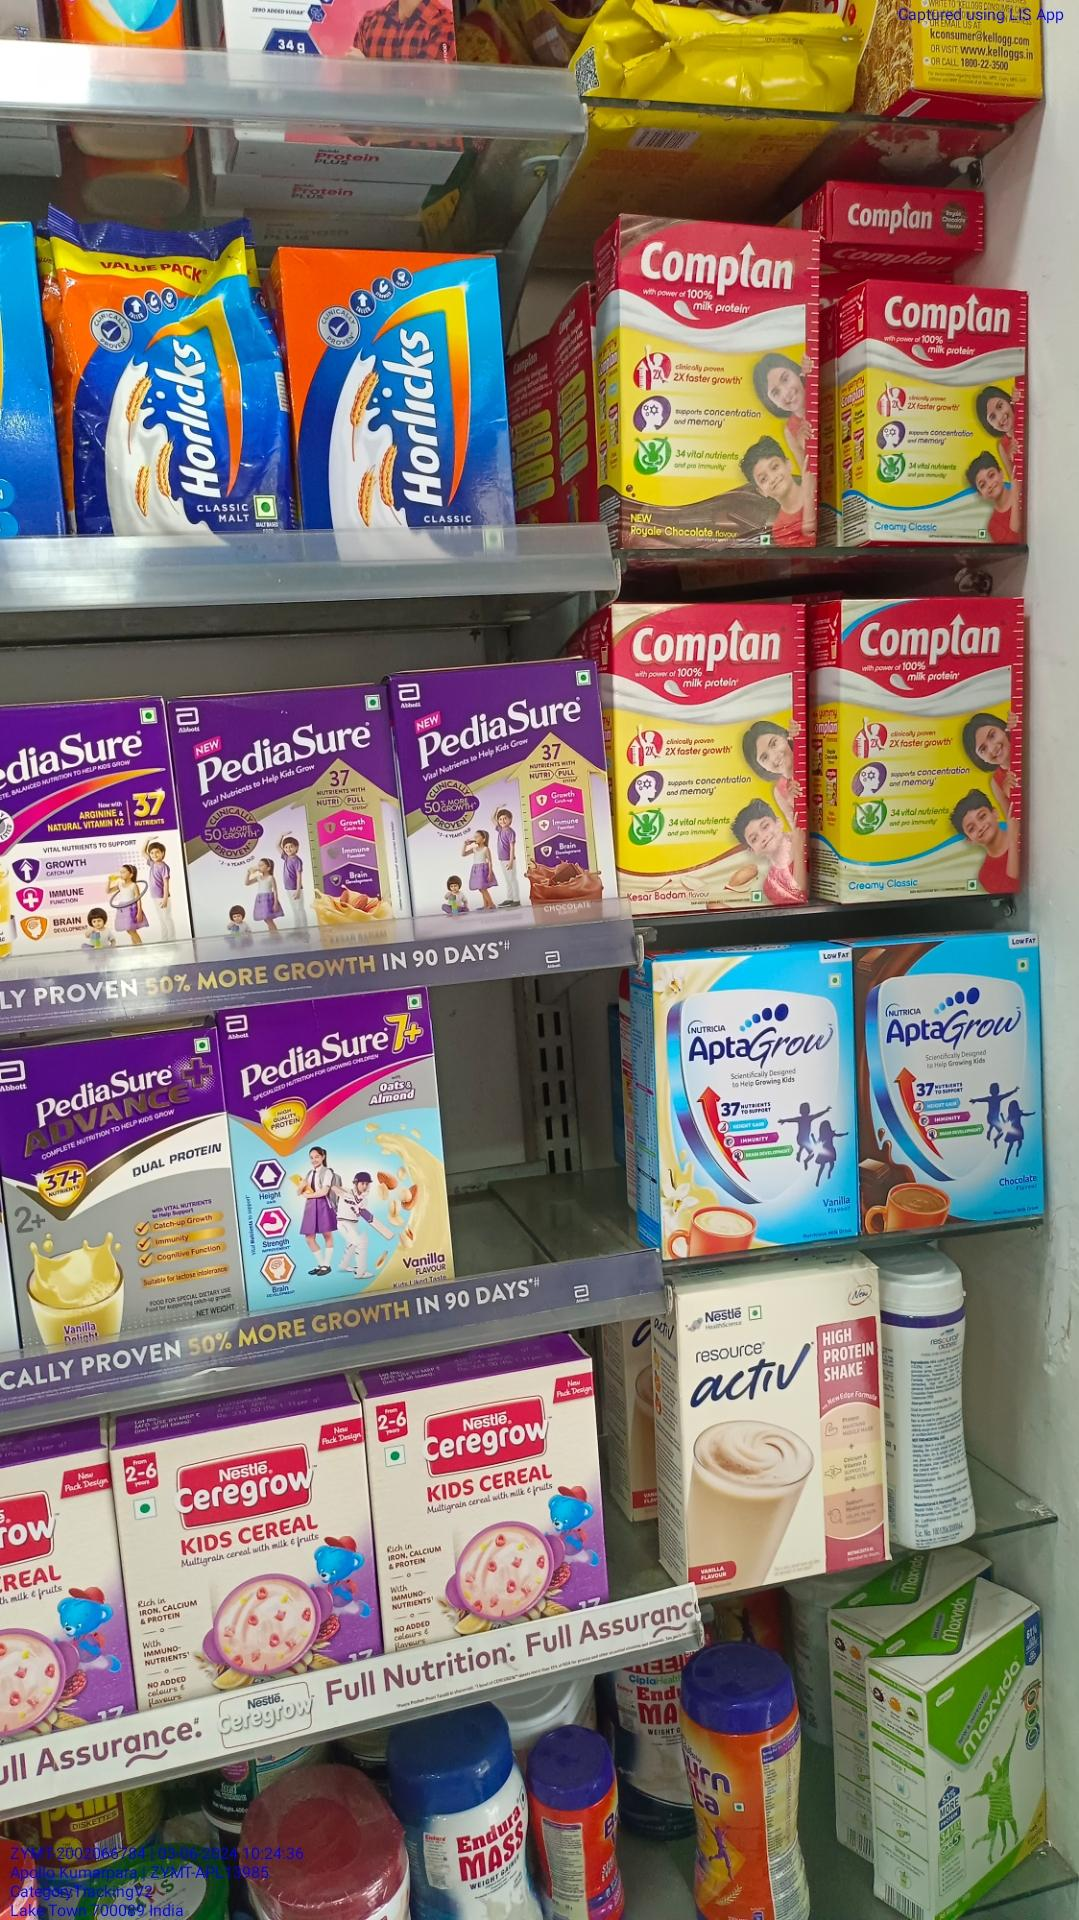HORLICK_CLASSIC_MALT_500_G_PACK: (269, 245, 517, 566)
PEDIASURE_CHOCOLATE_500_G_PACK: (408, 659, 617, 930)
PEDIASURE_VANILLA_500_G_PACK: (187, 680, 402, 951)
